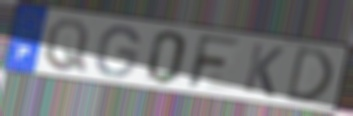0: (144, 28, 190, 87)
D: (282, 44, 336, 104)
F: (184, 32, 244, 92)
G: (93, 25, 142, 80)
K: (241, 41, 287, 100)
Q: (43, 16, 92, 75)
